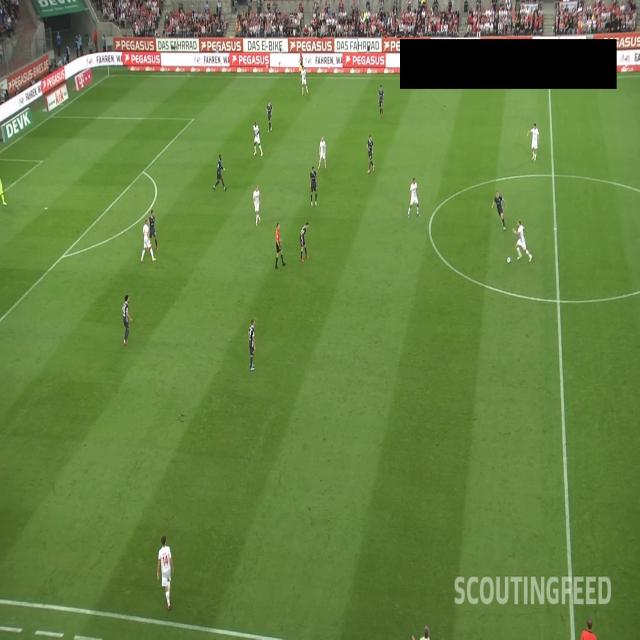ball: (506, 256, 512, 265)
